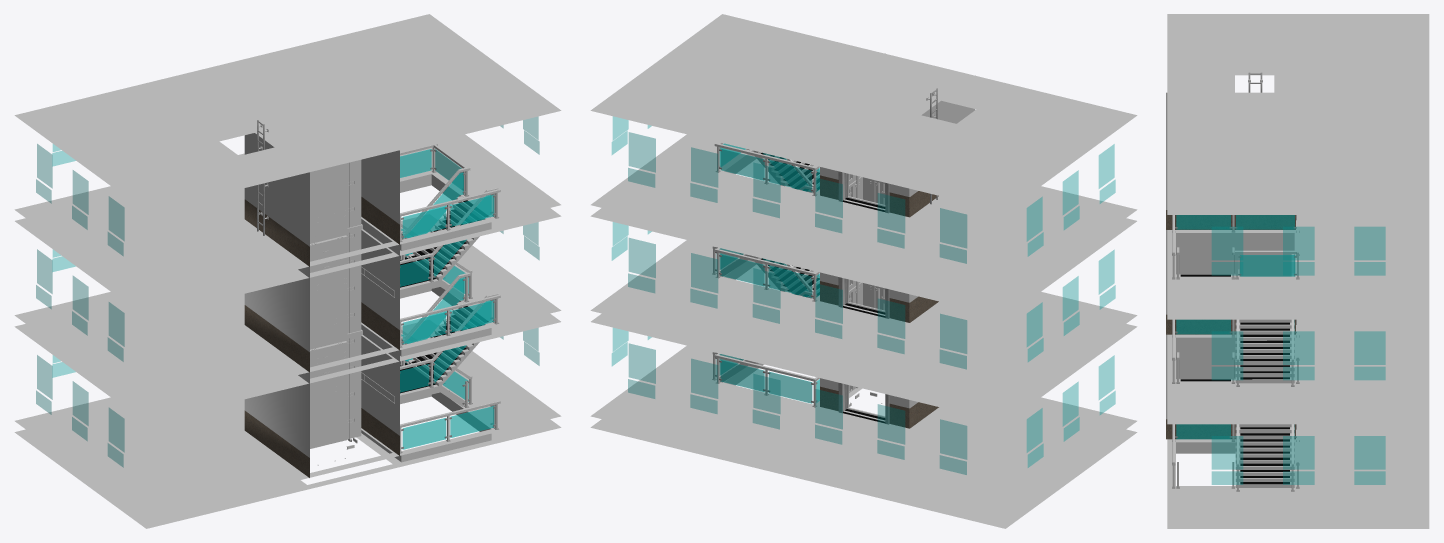
The model's file is Building07_V01_Interior02.fbx.
3 views of the same model, side by side, from view 1: azimuth 30°, elevation 25°; view 2: azimuth 150°, elevation 25°; view 3: azimuth 270°, elevation 25° (orthographic).
Visible parts, largest first — view 1: Building07_V01_Interior02; view 2: Building07_V01_Interior02; view 3: Building07_V01_Interior02.
Part boxes in pixels (x1,y1,x2,y2): Building07_V01_Interior02: (14, 14, 561, 528); Building07_V01_Interior02: (590, 14, 1137, 528); Building07_V01_Interior02: (1166, 14, 1429, 528).
Bounding box in the file's own units: 1670 × 1310 × 925.
